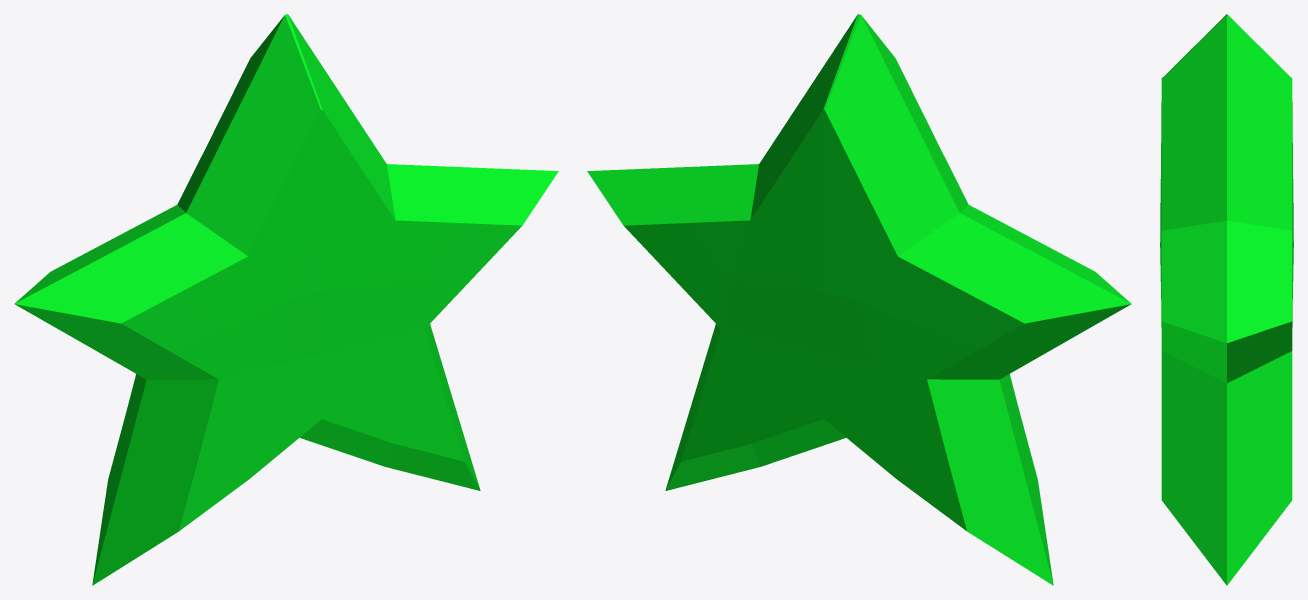
File: greenstar.fbx
The picture shows the model from 3 angles, left to right: view 1: azimuth 30°, elevation 25°; view 2: azimuth 150°, elevation 25°; view 3: azimuth 270°, elevation 25°; orthographic projection. The views are drawn at different scales.
Parts seen in each view (by area): view 1: Cube; view 2: Cube; view 3: Cube.
Part boxes in pixels (<box>): Cube: <box>14,14,558,585</box>; Cube: <box>587,14,1131,585</box>; Cube: <box>1160,14,1293,585</box>.
Size of the model in its own units: 277 by 254 by 63.71.
